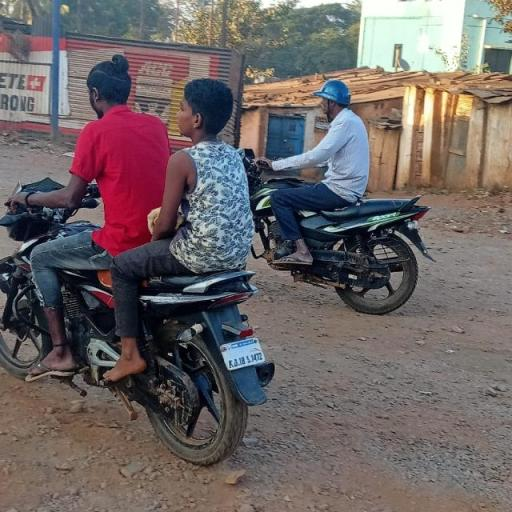bike: (2, 50, 296, 468)
numberplate: (216, 330, 274, 376)
withouthelmet: (179, 80, 231, 138), (88, 60, 129, 112)
